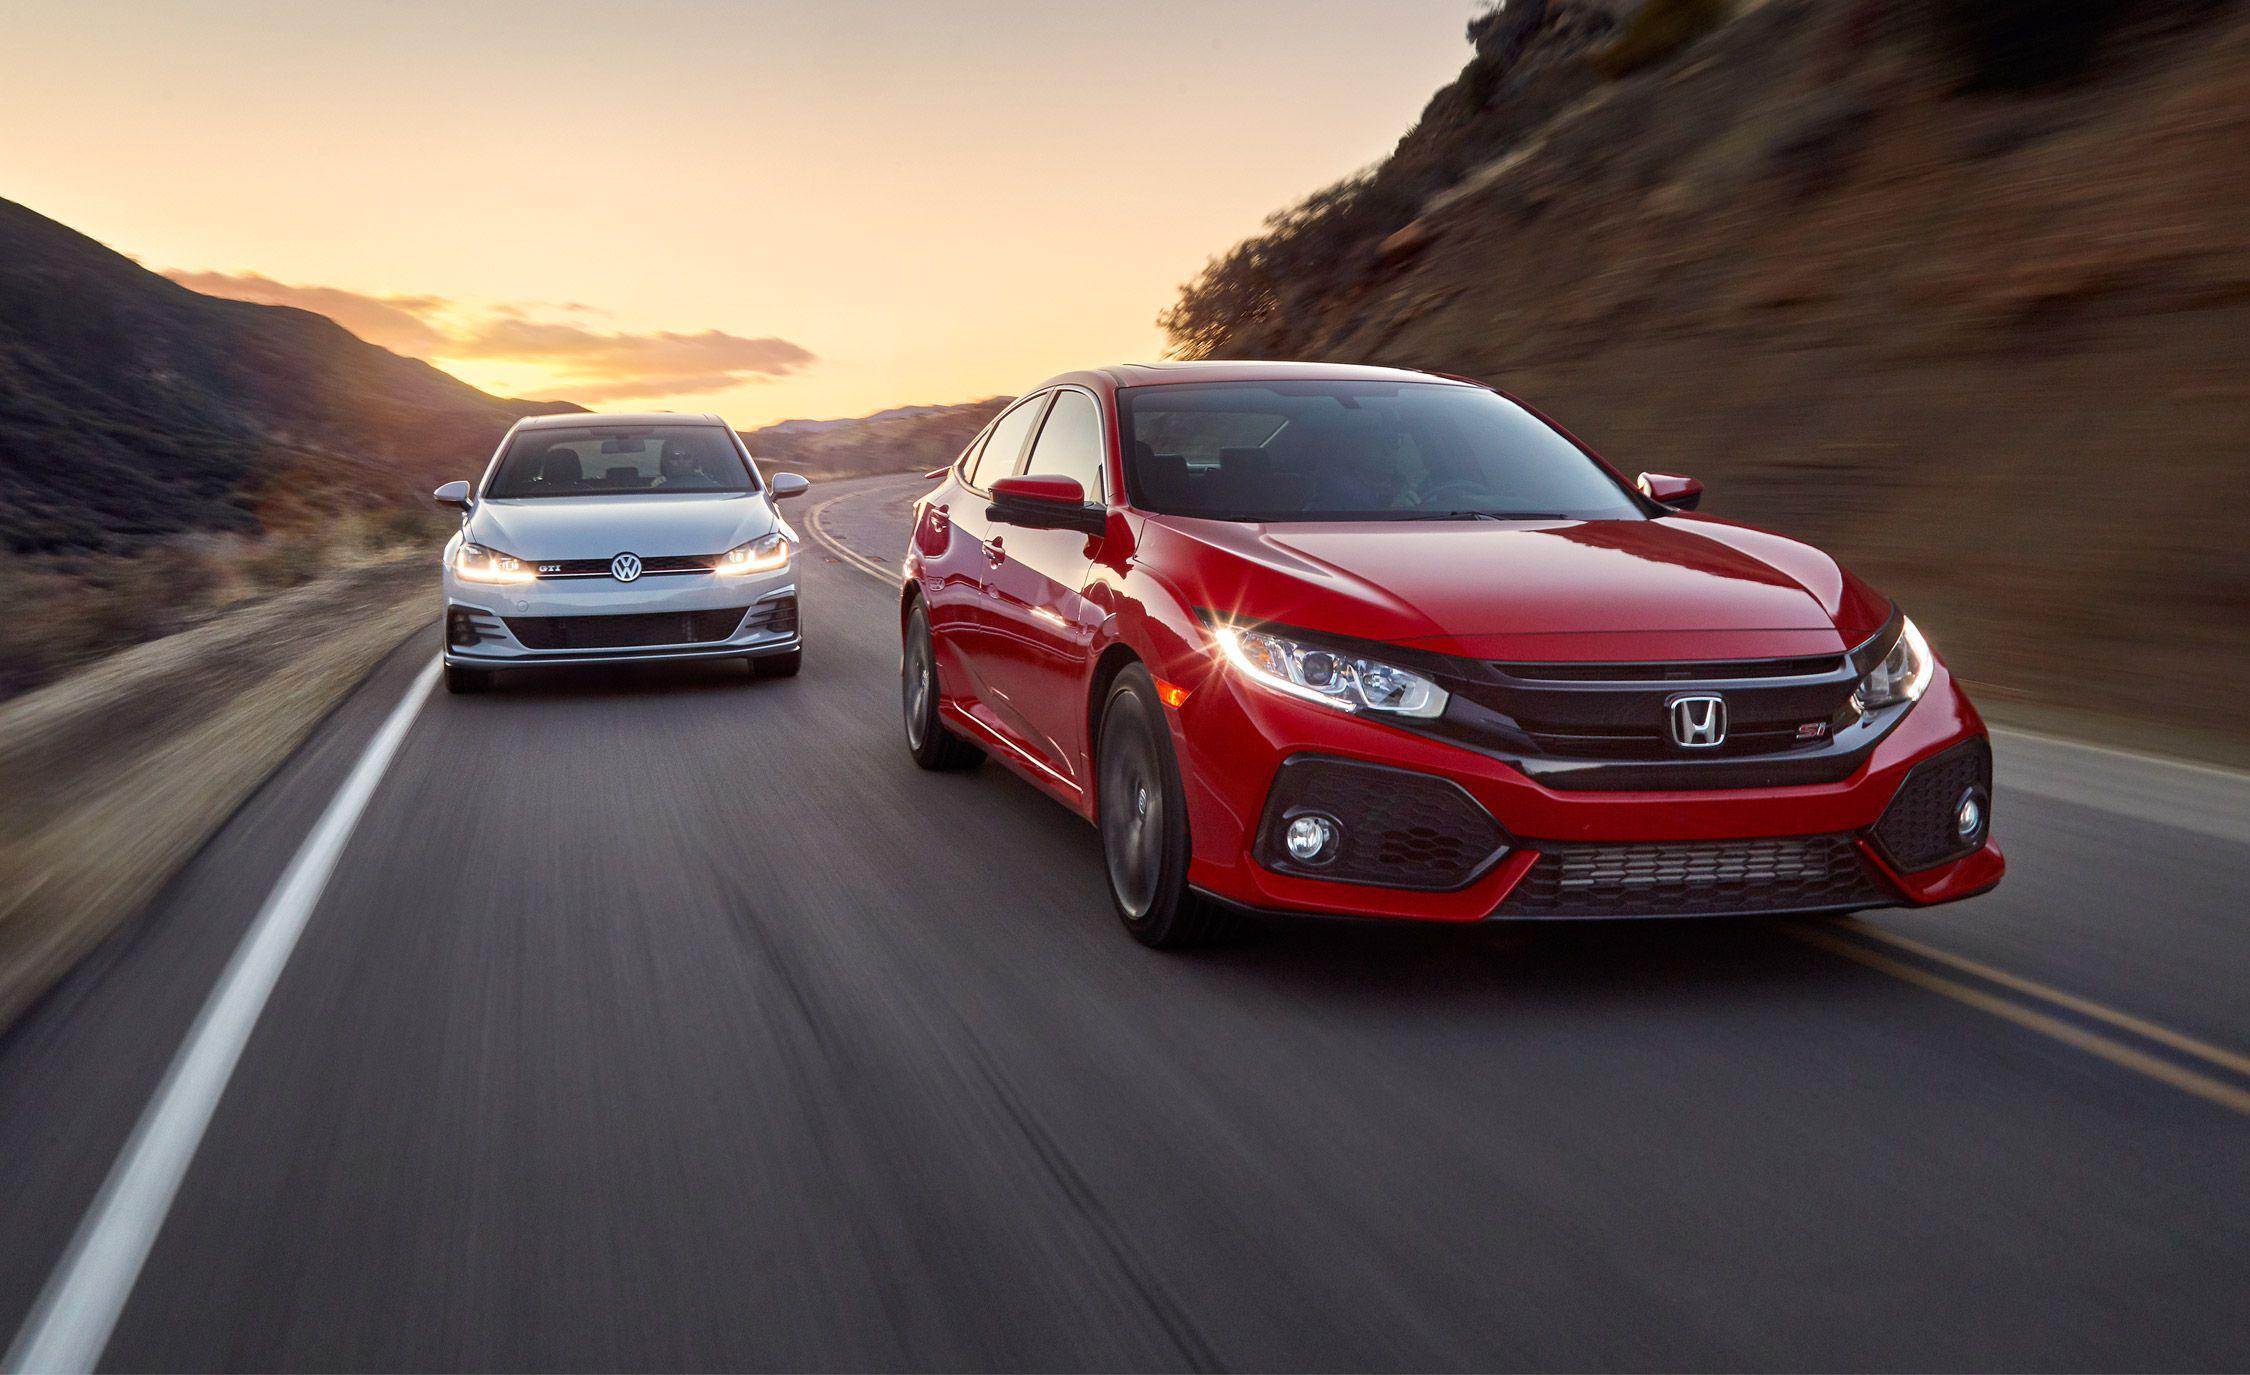car: (890, 342, 2089, 986), (429, 353, 855, 737)
